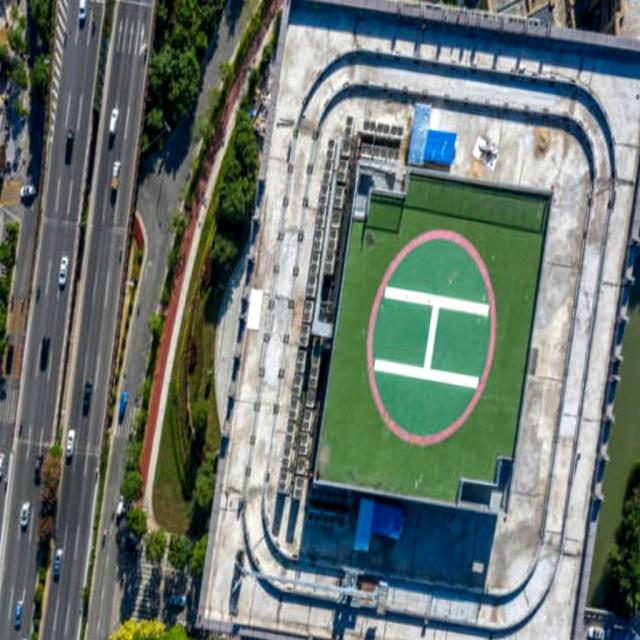helipad: (362, 222, 500, 450)
